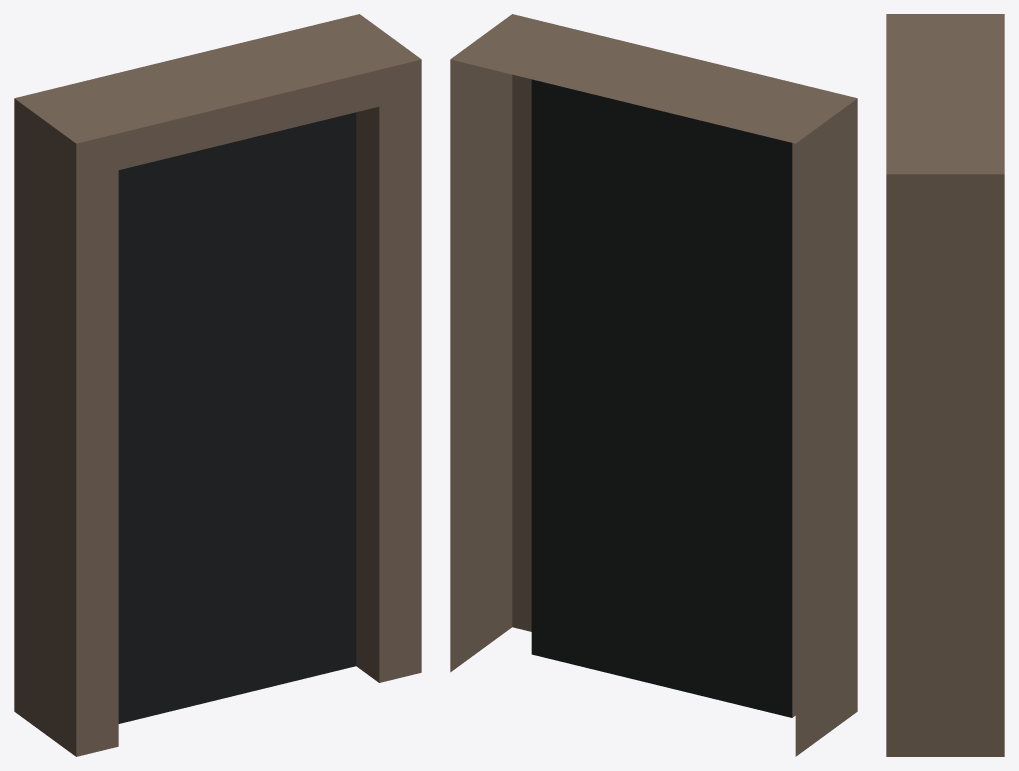
File: SM_Prop_Door_01.fbx
3 renders of one model, left to right at view 1: azimuth 30°, elevation 25°; view 2: azimuth 150°, elevation 25°; view 3: azimuth 270°, elevation 25°, orthographic. The views are drawn at different scales.
Parts seen in each view (by area): view 1: SM_Prop_Door_01; view 2: SM_Prop_Door_01; view 3: SM_Prop_Door_01.
Part boxes in pixels (<box>): SM_Prop_Door_01: <box>14,14,421,756</box>; SM_Prop_Door_01: <box>450,14,857,756</box>; SM_Prop_Door_01: <box>886,14,1004,756</box>.
Bounding box in the file's own units: 25.59 × 43.41 × 7.97.
